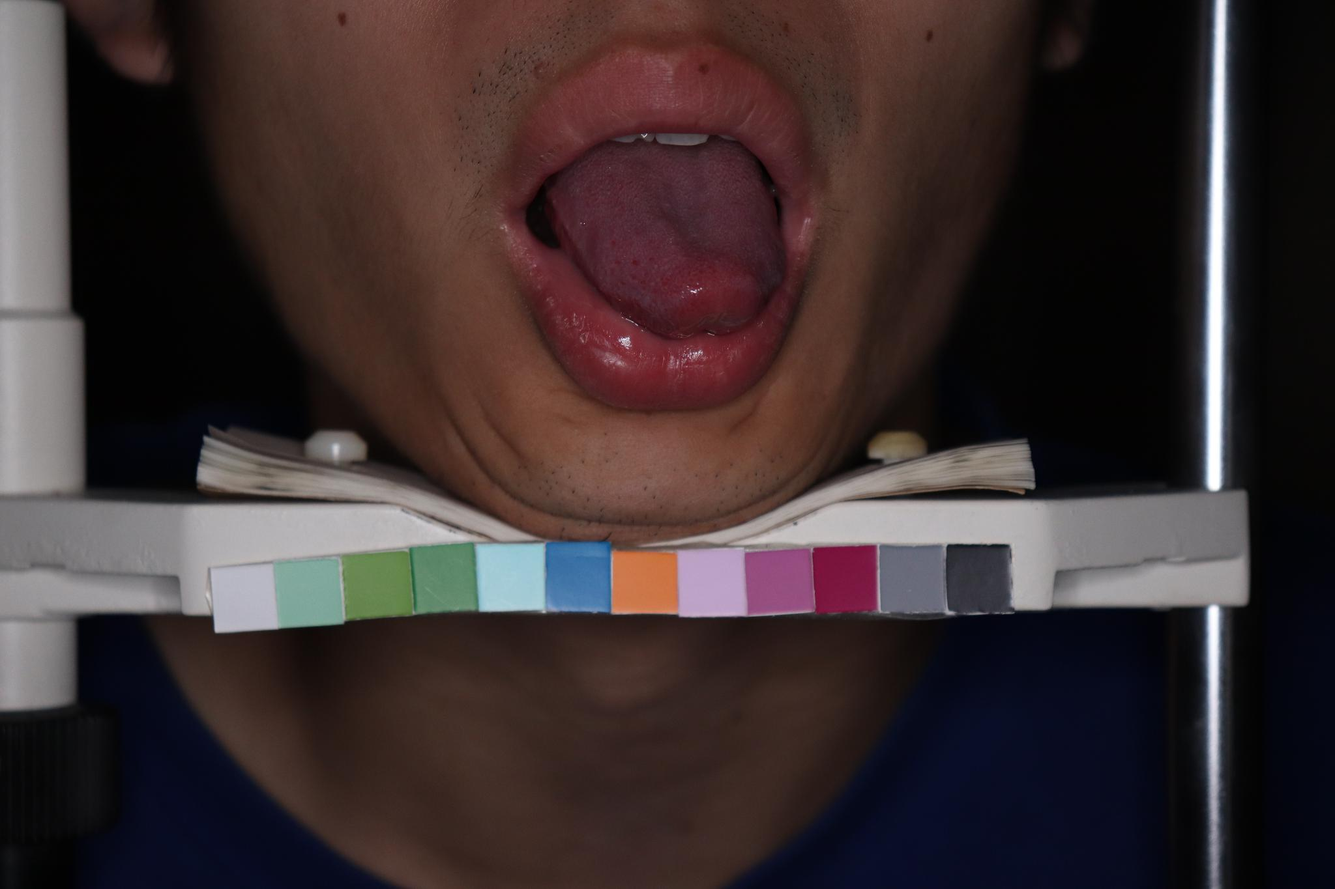hongshe: (542, 132, 788, 344)
